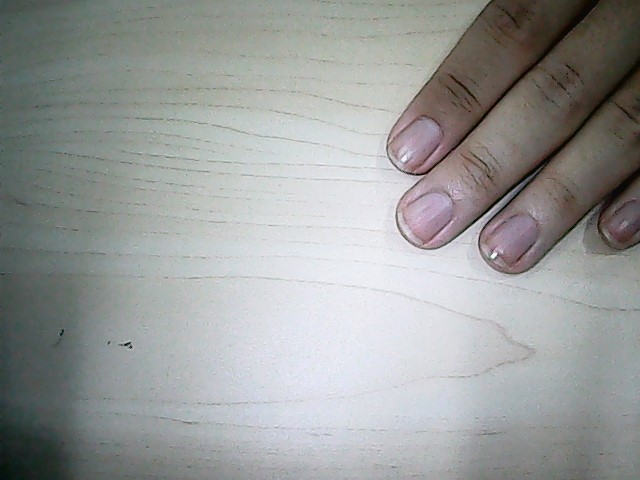nail: (392, 202, 453, 243), (487, 231, 534, 261), (388, 136, 434, 166), (605, 215, 640, 241)
